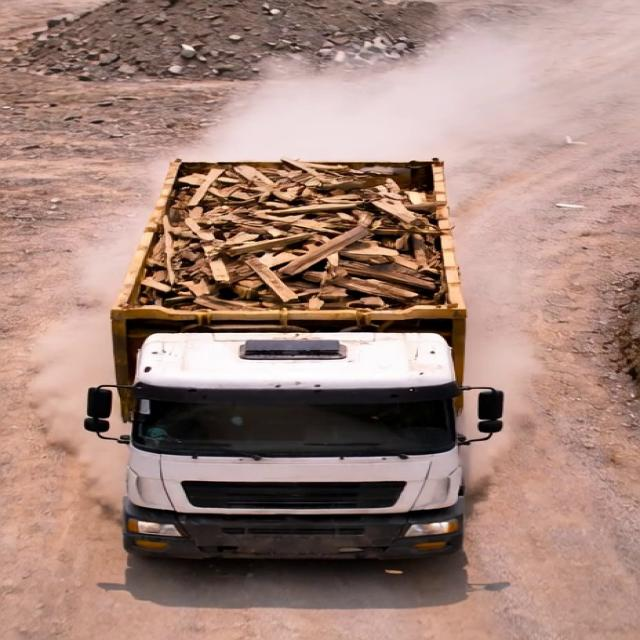trailer: (110, 159, 493, 327)
truck: (85, 142, 517, 580)
